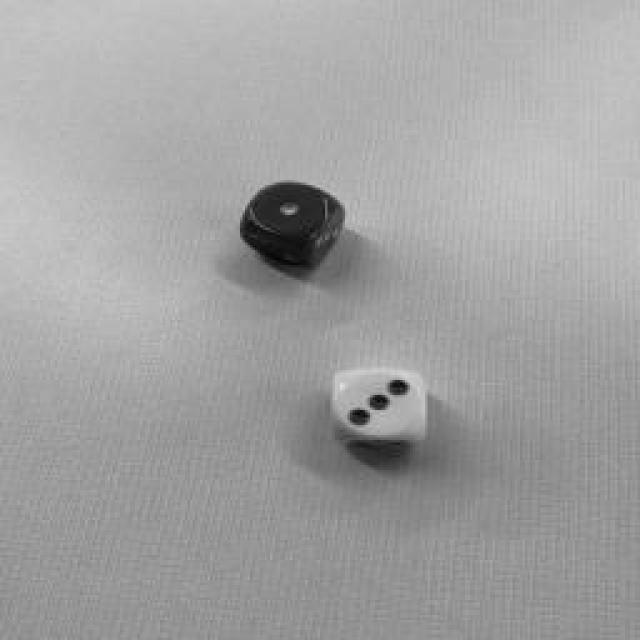dice_1: (249, 181, 331, 239)
dice_3: (337, 370, 425, 440)
